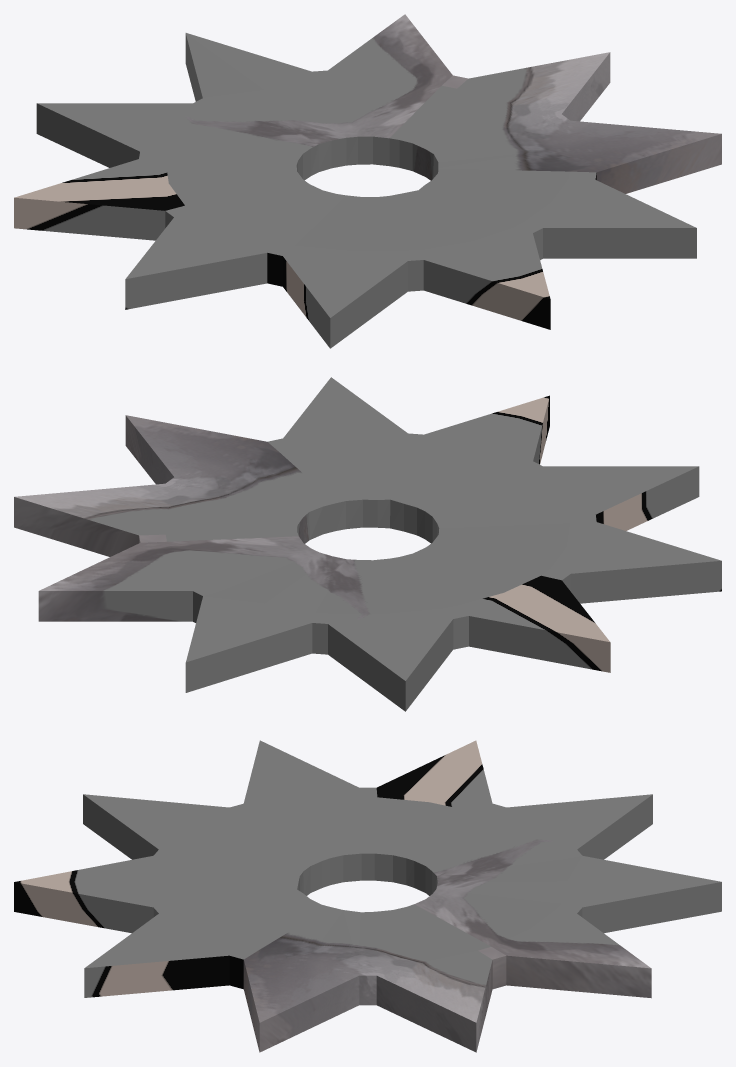
Rendered from uni.obj.
The picture shows the model from 3 angles, top to bottom: view 1: azimuth 30°, elevation 25°; view 2: azimuth 150°, elevation 25°; view 3: azimuth 270°, elevation 25°; orthographic projection. The views are drawn at different scales.
Parts seen in each view (by area): view 1: Group1, Group5; view 2: Group1, Group5; view 3: Group1, Group5.
Part boxes in pixels (<box>): Group1: <box>15,14,721,317</box>; Group5: <box>14,34,721,348</box>; Group1: <box>14,377,720,680</box>; Group5: <box>14,396,721,711</box>; Group1: <box>14,740,721,1022</box>; Group5: <box>14,794,721,1052</box>.
Bounding box in the file's own units: 1.65 × 0.0829 × 1.74.
